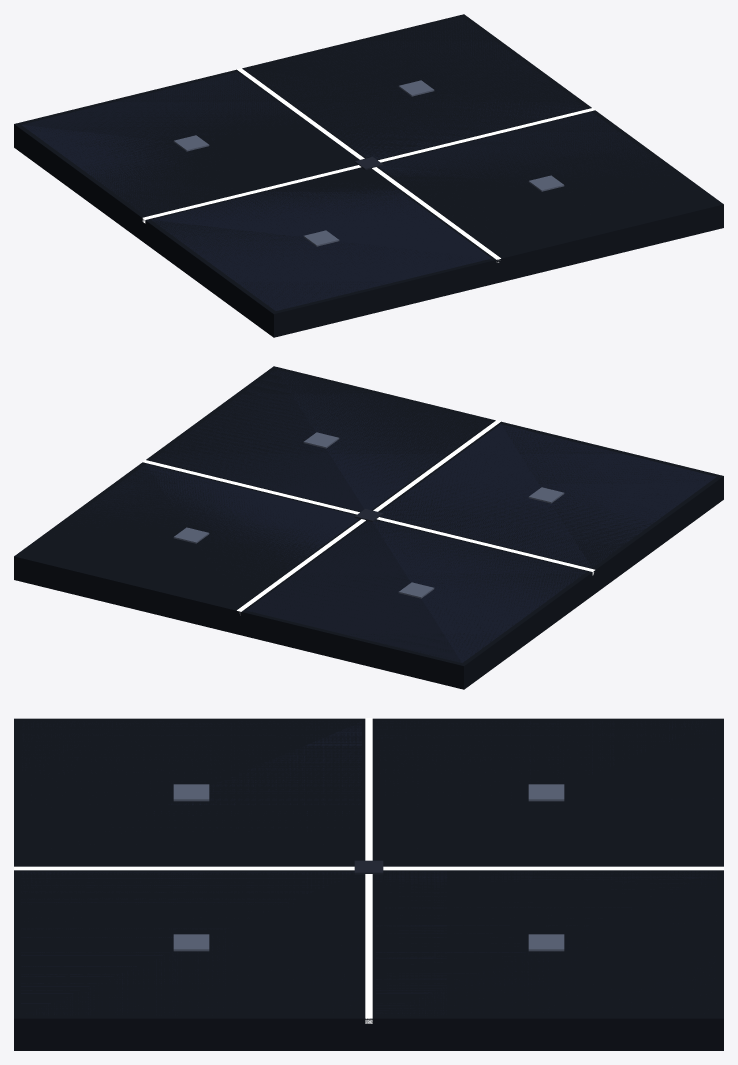
The model's file is kit-tokyo-floor.glb.
3 renders of one model, top to bottom at view 1: azimuth 30°, elevation 25°; view 2: azimuth 150°, elevation 25°; view 3: azimuth 270°, elevation 25°, orthographic. The views are drawn at different scales.
Visible parts, largest first — view 1: kit-tokyo-floor; view 2: kit-tokyo-floor; view 3: kit-tokyo-floor.
Boxes of the visible parts, bbox=[...] form: kit-tokyo-floor: bbox=[14, 14, 723, 337]; kit-tokyo-floor: bbox=[14, 366, 723, 689]; kit-tokyo-floor: bbox=[14, 718, 723, 1050].
Size of the model in its own units: 2 by 0.106 by 2.
